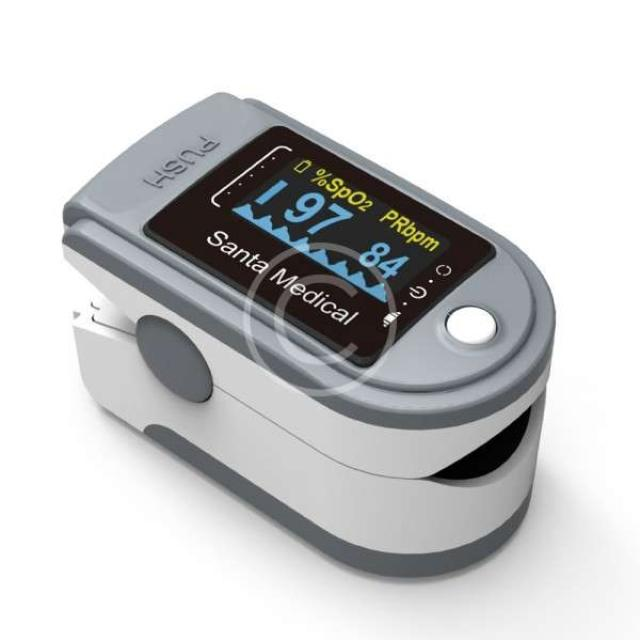oximeter: (4, 43, 554, 584)
